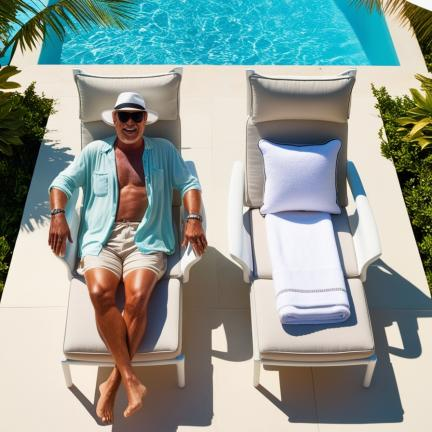guest on chair: (48, 68, 207, 423)
occupied chair: (228, 69, 381, 387)
